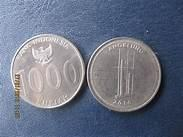coin_1000_e2010: (9, 33, 86, 110), (87, 36, 163, 113)
